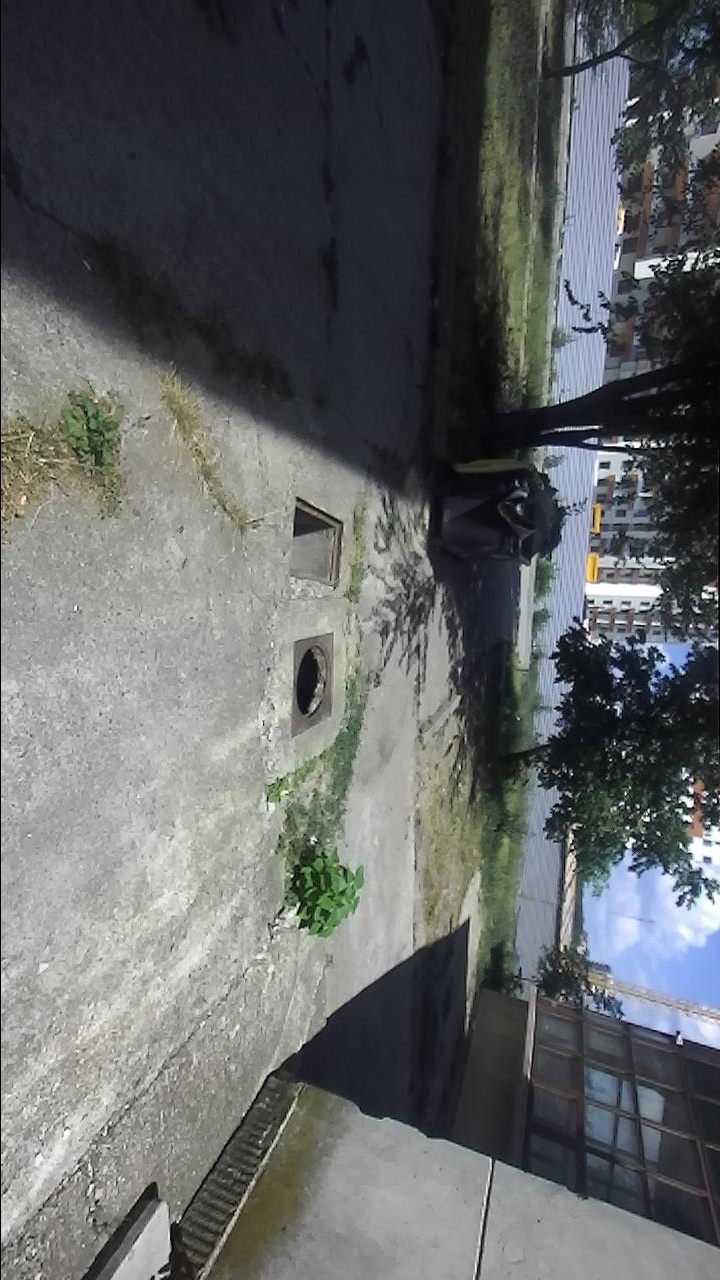drain: (287, 494, 345, 591), (295, 637, 334, 722)
